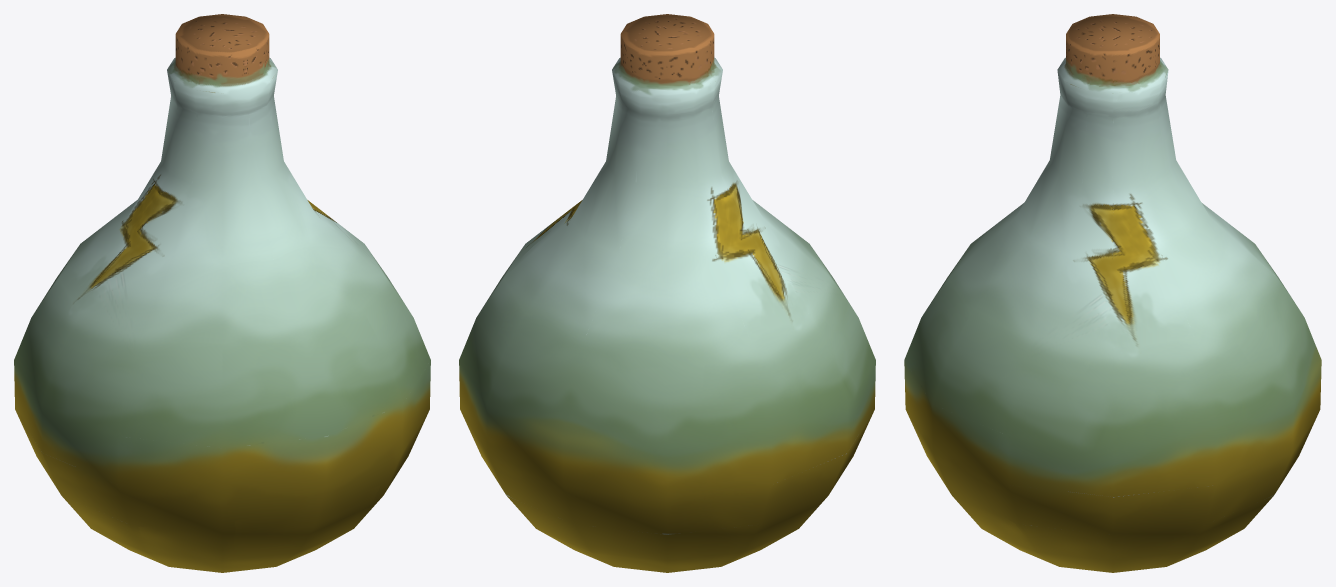
The model's file is spiritRegen.fbx.
The picture shows the model from 3 angles, left to right: view 1: azimuth 30°, elevation 25°; view 2: azimuth 150°, elevation 25°; view 3: azimuth 270°, elevation 25°; orthographic projection.
Visible parts, largest first — view 1: spiritRegen; view 2: spiritRegen; view 3: spiritRegen.
Boxes of the visible parts, <box> form: spiritRegen: <box>14,14,430,572</box>; spiritRegen: <box>459,14,875,572</box>; spiritRegen: <box>904,14,1321,572</box>.
Bounding box in the file's own units: 194 × 267 × 194.
1 material, 1 textured.
